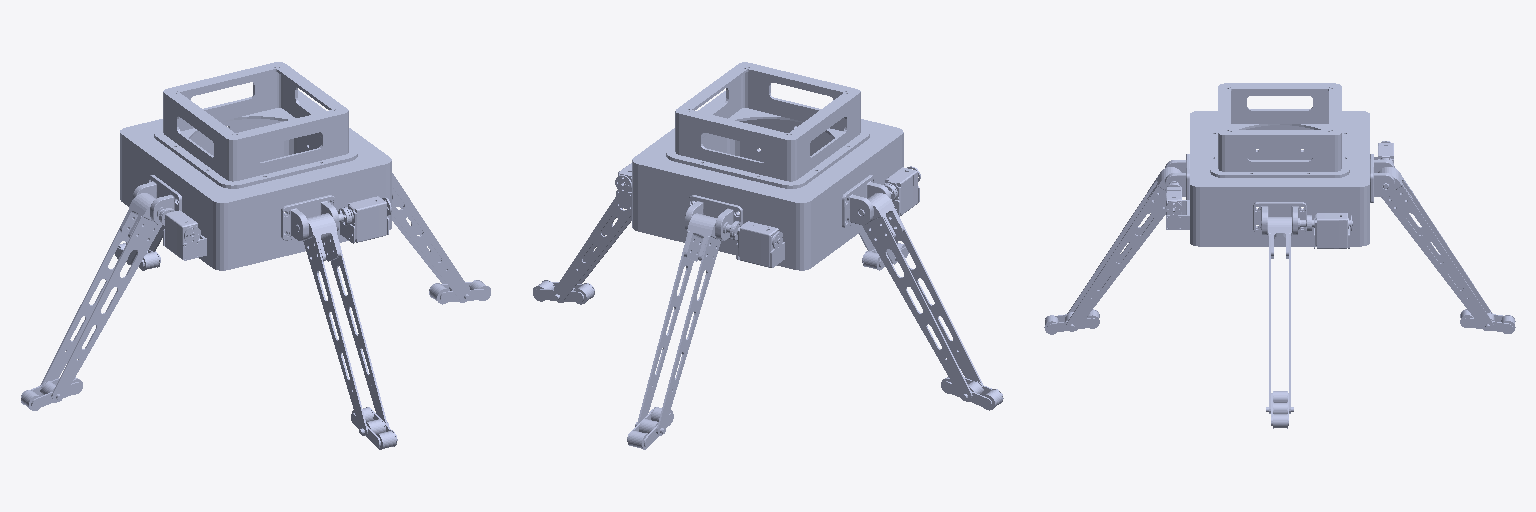
URDF robot description (landing_leg):
<?xml version="1.0" encoding="utf-8"?>
<!-- This URDF was automatically created by SolidWorks to URDF Exporter! Originally created by [author] ([email redacted]) 
     Commit Version: 1.6.0-4-g7f85cfe  Build Version: 1.6.7995.38578
     For more information, please see http://wiki.ros.org/sw_urdf_exporter -->
<robot
  name="landing_leg">
  <link
    name="base_link">
    <inertial>
      <origin
        xyz="-1.7847E-11 -8.2696E-11 -0.077877"
        rpy="0 0 0" />
      <mass
        value="0.62479" />
      <inertia
        ixx="0.0027513"
        ixy="9.4494E-16"
        ixz="-8.7806E-15"
        iyy="0.0027513"
        iyz="-1.0013E-14"
        izz="0.0049694" />
    </inertial>
    <visual>
      <origin
        xyz="0 0 0"
        rpy="0 0 0" />
      <geometry>
        <mesh
          filename="package://landing_leg/meshes/base_link.STL" />
      </geometry>
      <material
        name="">
        <color
          rgba="0.79216 0.81961 0.93333 1" />
      </material>
    </visual>
    <collision>
      <origin
        xyz="0 0 0"
        rpy="0 0 0" />
      <geometry>
        <mesh
          filename="package://landing_leg/meshes/base_link.STL" />
      </geometry>
    </collision>
  </link>
  <link
    name="link1">
    <inertial>
      <origin
        xyz="-0.02425 -0.030225 -0.046837"
        rpy="0 0 0" />
      <mass
        value="0.037564" />
      <inertia
        ixx="7.4131E-05"
        ixy="1.6243E-19"
        ixz="2.4519E-19"
        iyy="5.2962E-05"
        iyz="-3.1562E-05"
        izz="2.442E-05" />
    </inertial>
    <visual>
      <origin
        xyz="0 0 0"
        rpy="0 0 0" />
      <geometry>
        <mesh
          filename="package://landing_leg/meshes/link1.STL" />
      </geometry>
      <material
        name="">
        <color
          rgba="0.79216 0.81961 0.93333 1" />
      </material>
    </visual>
    <collision>
      <origin
        xyz="0 0 0"
        rpy="0 0 0" />
      <geometry>
        <mesh
          filename="package://landing_leg/meshes/link1.STL" />
      </geometry>
    </collision>
  </link>
  <joint
    name="joint1"
    type="revolute">
    <origin
      xyz="0.0245 -0.129 -0.093"
      rpy="0 0 0" />
    <parent
      link="base_link" />
    <child
      link="link1" />
    <axis
      xyz="1 0 0" />
    <limit
      lower="0"
      upper="0"
      effort="0"
      velocity="0" />
  </joint>
  <link
    name="link1_1">
    <inertial>
      <origin
        xyz="-0.0090618 5.5511E-17 6.7047E-16"
        rpy="0 0 0" />
      <mass
        value="0.01515" />
      <inertia
        ixx="1.5658E-06"
        ixy="6.6071E-21"
        ixz="1.078E-21"
        iyy="6.1989E-07"
        iyz="-1.6374E-07"
        izz="1.6121E-06" />
    </inertial>
    <visual>
      <origin
        xyz="0 0 0"
        rpy="0 0 0" />
      <geometry>
        <mesh
          filename="package://landing_leg/meshes/link1_1.STL" />
      </geometry>
      <material
        name="">
        <color
          rgba="0.79216 0.81961 0.93333 1" />
      </material>
    </visual>
    <collision>
      <origin
        xyz="0 0 0"
        rpy="0 0 0" />
      <geometry>
        <mesh
          filename="package://landing_leg/meshes/link1_1.STL" />
      </geometry>
    </collision>
  </link>
  <joint
    name="joint1_1"
    type="revolute">
    <origin
      xyz="-0.015 -0.12417 -0.19241"
      rpy="0 0 0" />
    <parent
      link="link1" />
    <child
      link="link1_1" />
    <axis
      xyz="1 0 0" />
    <limit
      lower="0"
      upper="0"
      effort="0"
      velocity="0" />
  </joint>
  <link
    name="link2">
    <inertial>
      <origin
        xyz="0.030225 -0.02425 -0.046837"
        rpy="0 0 0" />
      <mass
        value="0.037564" />
      <inertia
        ixx="5.2962E-05"
        ixy="-2.3699E-19"
        ixz="3.1562E-05"
        iyy="7.4131E-05"
        iyz="3.5487E-19"
        izz="2.442E-05" />
    </inertial>
    <visual>
      <origin
        xyz="0 0 0"
        rpy="0 0 0" />
      <geometry>
        <mesh
          filename="package://landing_leg/meshes/link2.STL" />
      </geometry>
      <material
        name="">
        <color
          rgba="0.79216 0.81961 0.93333 1" />
      </material>
    </visual>
    <collision>
      <origin
        xyz="0 0 0"
        rpy="0 0 0" />
      <geometry>
        <mesh
          filename="package://landing_leg/meshes/link2.STL" />
      </geometry>
    </collision>
  </link>
  <joint
    name="joint2"
    type="revolute">
    <origin
      xyz="0.129 0.0245 -0.093"
      rpy="0 0 0" />
    <parent
      link="base_link" />
    <child
      link="link2" />
    <axis
      xyz="0 1 0" />
    <limit
      lower="0"
      upper="0"
      effort="0"
      velocity="0" />
  </joint>
  <link
    name="link2_1">
    <inertial>
      <origin
        xyz="1.1102E-16 -0.0090618 6.6787E-16"
        rpy="0 0 0" />
      <mass
        value="0.01515" />
      <inertia
        ixx="6.1989E-07"
        ixy="-9.8769E-21"
        ixz="1.6374E-07"
        iyy="1.5658E-06"
        iyz="1.6502E-21"
        izz="1.6121E-06" />
    </inertial>
    <visual>
      <origin
        xyz="0 0 0"
        rpy="0 0 0" />
      <geometry>
        <mesh
          filename="package://landing_leg/meshes/link2_1.STL" />
      </geometry>
      <material
        name="">
        <color
          rgba="0.79216 0.81961 0.93333 1" />
      </material>
    </visual>
    <collision>
      <origin
        xyz="0 0 0"
        rpy="0 0 0" />
      <geometry>
        <mesh
          filename="package://landing_leg/meshes/link2_1.STL" />
      </geometry>
    </collision>
  </link>
  <joint
    name="joint2_1"
    type="revolute">
    <origin
      xyz="0.12417 -0.015 -0.19241"
      rpy="0 0 0" />
    <parent
      link="link2" />
    <child
      link="link2_1" />
    <axis
      xyz="0 1 0" />
    <limit
      lower="0"
      upper="0"
      effort="0"
      velocity="0" />
  </joint>
  <link
    name="link3">
    <inertial>
      <origin
        xyz="0.02425 0.030225 -0.046837"
        rpy="0 0 0" />
      <mass
        value="0.037564" />
      <inertia
        ixx="7.4131E-05"
        ixy="1.5416E-20"
        ixz="-2.4595E-20"
        iyy="5.2962E-05"
        iyz="3.1562E-05"
        izz="2.442E-05" />
    </inertial>
    <visual>
      <origin
        xyz="0 0 0"
        rpy="0 0 0" />
      <geometry>
        <mesh
          filename="package://landing_leg/meshes/link3.STL" />
      </geometry>
      <material
        name="">
        <color
          rgba="0.79216 0.81961 0.93333 1" />
      </material>
    </visual>
    <collision>
      <origin
        xyz="0 0 0"
        rpy="0 0 0" />
      <geometry>
        <mesh
          filename="package://landing_leg/meshes/link3.STL" />
      </geometry>
    </collision>
  </link>
  <joint
    name="joint3"
    type="revolute">
    <origin
      xyz="-0.0245 0.129 -0.093"
      rpy="0 0 0" />
    <parent
      link="base_link" />
    <child
      link="link3" />
    <axis
      xyz="-1 0 0" />
    <limit
      lower="0"
      upper="0"
      effort="0"
      velocity="0" />
  </joint>
  <link
    name="link3_1">
    <inertial>
      <origin
        xyz="0.0090618 -8.3267E-17 6.2016E-16"
        rpy="0 0 0" />
      <mass
        value="0.01515" />
      <inertia
        ixx="1.5658E-06"
        ixy="-1.8499E-22"
        ixz="8.8081E-23"
        iyy="6.1989E-07"
        iyz="1.6374E-07"
        izz="1.6121E-06" />
    </inertial>
    <visual>
      <origin
        xyz="0 0 0"
        rpy="0 0 0" />
      <geometry>
        <mesh
          filename="package://landing_leg/meshes/link3_1.STL" />
      </geometry>
      <material
        name="">
        <color
          rgba="0.79216 0.81961 0.93333 1" />
      </material>
    </visual>
    <collision>
      <origin
        xyz="0 0 0"
        rpy="0 0 0" />
      <geometry>
        <mesh
          filename="package://landing_leg/meshes/link3_1.STL" />
      </geometry>
    </collision>
  </link>
  <joint
    name="joint3_1"
    type="revolute">
    <origin
      xyz="0.015 0.12417 -0.19241"
      rpy="0 0 0" />
    <parent
      link="link3" />
    <child
      link="link3_1" />
    <axis
      xyz="-1 0 0" />
    <limit
      lower="0"
      upper="0"
      effort="0"
      velocity="0" />
  </joint>
  <link
    name="link4">
    <inertial>
      <origin
        xyz="-0.030225 0.02425 -0.046837"
        rpy="0 0 0" />
      <mass
        value="0.037564" />
      <inertia
        ixx="5.2962E-05"
        ixy="-8.8891E-20"
        ixz="-3.1562E-05"
        iyy="7.4131E-05"
        iyz="-1.3448E-19"
        izz="2.442E-05" />
    </inertial>
    <visual>
      <origin
        xyz="0 0 0"
        rpy="0 0 0" />
      <geometry>
        <mesh
          filename="package://landing_leg/meshes/link4.STL" />
      </geometry>
      <material
        name="">
        <color
          rgba="0.79216 0.81961 0.93333 1" />
      </material>
    </visual>
    <collision>
      <origin
        xyz="0 0 0"
        rpy="0 0 0" />
      <geometry>
        <mesh
          filename="package://landing_leg/meshes/link4.STL" />
      </geometry>
    </collision>
  </link>
  <joint
    name="joint4"
    type="revolute">
    <origin
      xyz="-0.129 -0.0245 -0.093"
      rpy="0 0 0" />
    <parent
      link="base_link" />
    <child
      link="link4" />
    <axis
      xyz="0 -1 0" />
    <limit
      lower="0"
      upper="0"
      effort="0"
      velocity="0" />
  </joint>
  <link
    name="link4_1">
    <inertial>
      <origin
        xyz="2.7756E-17 0.0080618 6.6613E-16"
        rpy="0 0 0" />
      <mass
        value="0.01515" />
      <inertia
        ixx="6.1989E-07"
        ixy="-3.1931E-21"
        ixz="-1.6374E-07"
        iyy="1.5658E-06"
        iyz="-4.9325E-22"
        izz="1.6121E-06" />
    </inertial>
    <visual>
      <origin
        xyz="0 0 0"
        rpy="0 0 0" />
      <geometry>
        <mesh
          filename="package://landing_leg/meshes/link4_1.STL" />
      </geometry>
      <material
        name="">
        <color
          rgba="0.79216 0.81961 0.93333 1" />
      </material>
    </visual>
    <collision>
      <origin
        xyz="0 0 0"
        rpy="0 0 0" />
      <geometry>
        <mesh
          filename="package://landing_leg/meshes/link4_1.STL" />
      </geometry>
    </collision>
  </link>
  <joint
    name="joint4_1"
    type="revolute">
    <origin
      xyz="-0.12417 0.016 -0.19241"
      rpy="0 0 0" />
    <parent
      link="link4" />
    <child
      link="link4_1" />
    <axis
      xyz="0 -1 0" />
    <limit
      lower="0"
      upper="0"
      effort="0"
      velocity="0" />
  </joint>
</robot>

--- Render facts (derived) ---
The picture shows the robot from 3 angles, left to right: view 1: azimuth 30°, elevation 25°; view 2: azimuth 150°, elevation 25°; view 3: azimuth 270°, elevation 25°; orthographic projection.
Model landing_leg with 9 links and 8 joints (8 revolute), rooted at base_link, posed every joint at zero.
Visible links, largest first — view 1: base_link, link4, link1, link2, link1_1, link4_1, link2_1; view 2: base_link, link4, link3, link2, link3_1, link4_1, link2_1; view 3: base_link, link3, link1, link2, link1_1, link3_1, link2_1.
Boxes of the visible links, x1,y1,x2,y2 form: base_link: (120,62,391,270); link4: (40,193,162,401); link1: (303,213,387,435); link2: (392,173,471,301); link1_1: (351,407,397,449); link4_1: (21,377,82,410); link2_1: (429,280,490,304); base_link: (615,62,920,270); link4: (862,193,982,400); link3: (637,213,721,435); link2: (552,197,631,301); link3_1: (627,407,673,449); link4_1: (941,377,1003,410); link2_1: (533,280,594,304); base_link: (1165,83,1394,248); link3: (1378,167,1493,330); link1: (1066,167,1181,330); link2: (1268,217,1291,413); link1_1: (1044,309,1099,334); link3_1: (1460,309,1515,333); link2_1: (1266,391,1293,428).
Size in the robot's own frame: 0.5737 by 0.5737 by 0.2984 metres.
9 mesh visuals loaded from 9 distinct referenced files (9 binary STL).